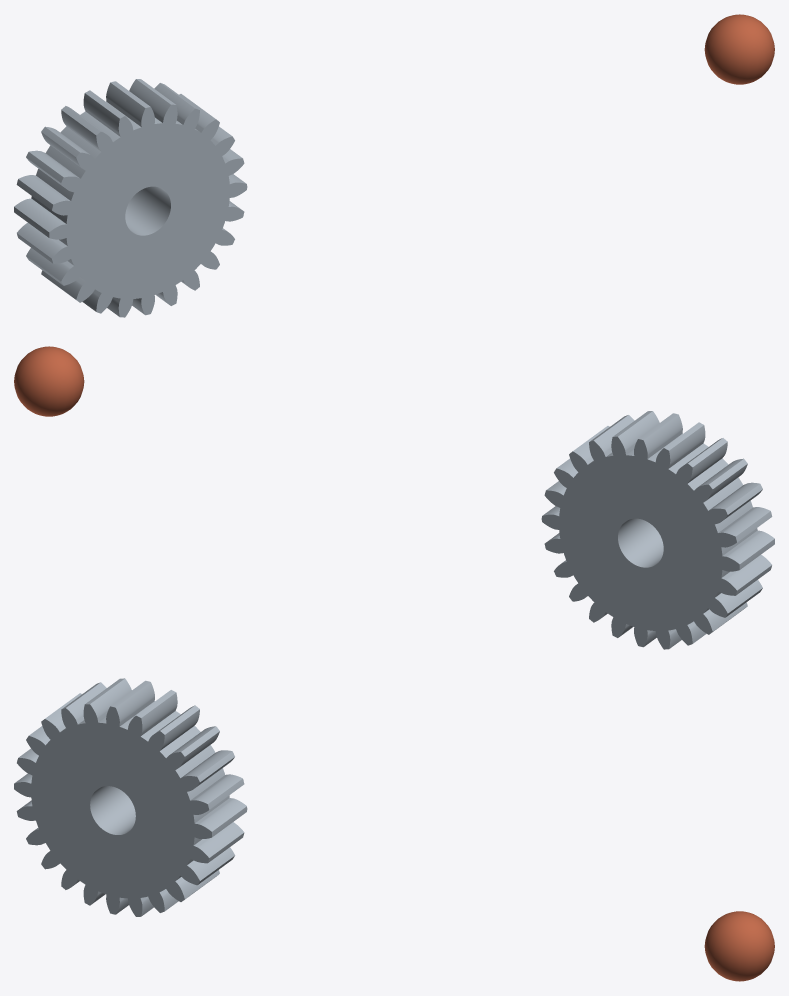
3 renders of one model, top to bottom at view 1: azimuth 30°, elevation 25°; view 2: azimuth 150°, elevation 25°; view 3: azimuth 330°, elevation 25°, orthographic.
Visible parts, largest first — view 1: spur_gear, preserved_sphere; view 2: spur_gear, preserved_sphere; view 3: spur_gear, preserved_sphere.
Part boxes in pixels (x1=…): spur_gear: x1=14, y1=79, x2=247, y2=317; preserved_sphere: x1=704, y1=14, x2=774, y2=84; spur_gear: x1=541, y1=411, x2=774, y2=649; preserved_sphere: x1=14, y1=346, x2=84, y2=416; spur_gear: x1=14, y1=678, x2=247, y2=916; preserved_sphere: x1=704, y1=911, x2=774, y2=981.
Bounding box in the file's own units: 0.0485 × 0.013 × 0.004.
